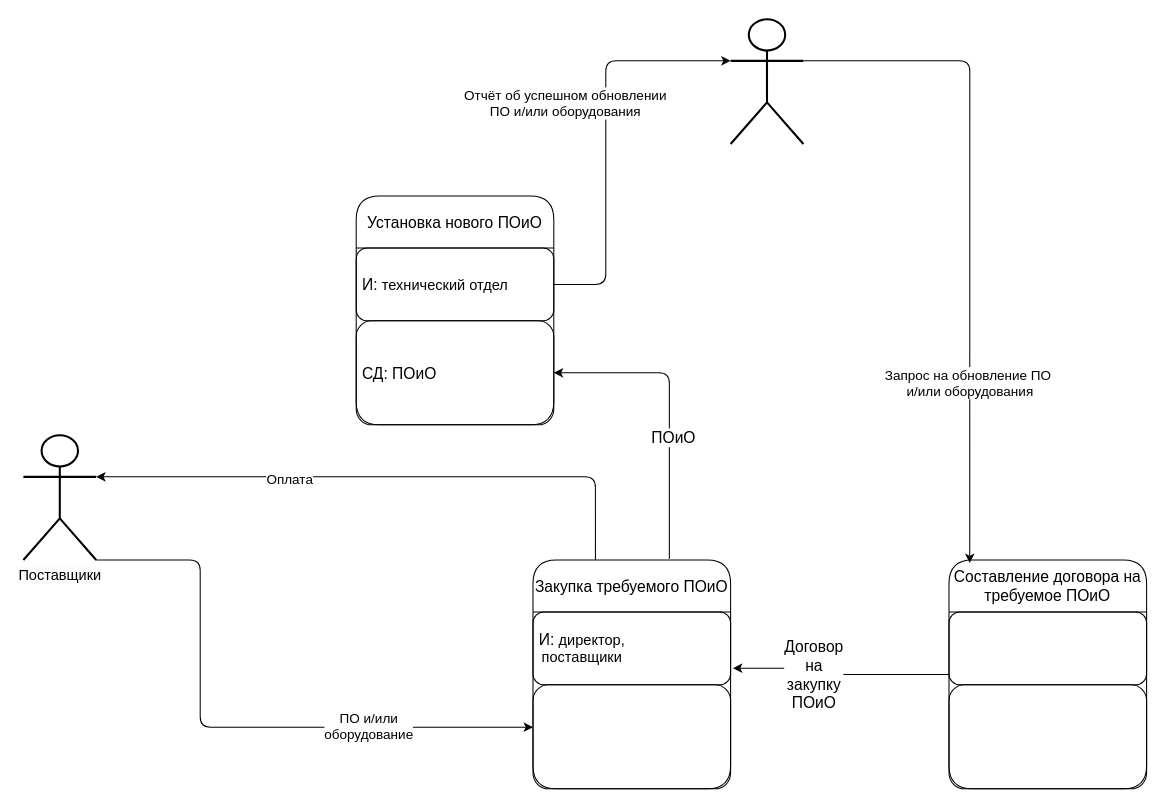
Some shapes in this 1165 by 807 pixel diagram are drawn without their labels. The shapes that lost their labels are listed below. From the top down, each one's centre as x and y in pixels, then its label:
At (x=766, y=81): "Служба поддержки".
At (x=1047, y=648): "И: бухгалтерия".
At (x=631, y=736): "СД: текстовые редакторы, договор".
At (x=1047, y=736): "СД: текстовые редакторы".
